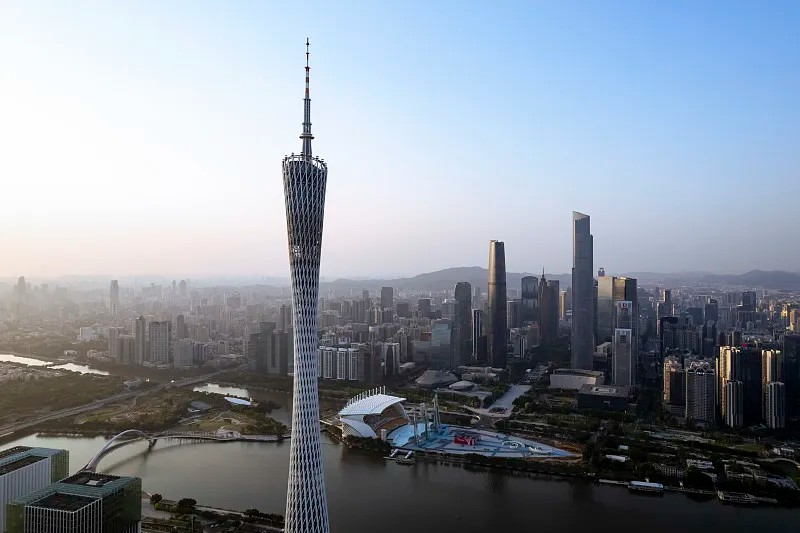Canton: (280, 39, 330, 533)
